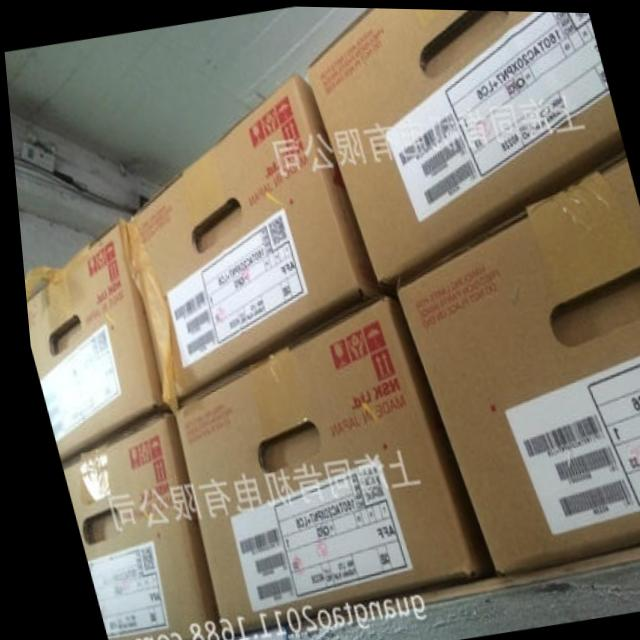box: (165, 292, 481, 635), (391, 148, 640, 570), (305, 6, 622, 288), (121, 69, 376, 405), (52, 411, 210, 640), (21, 216, 158, 461)
